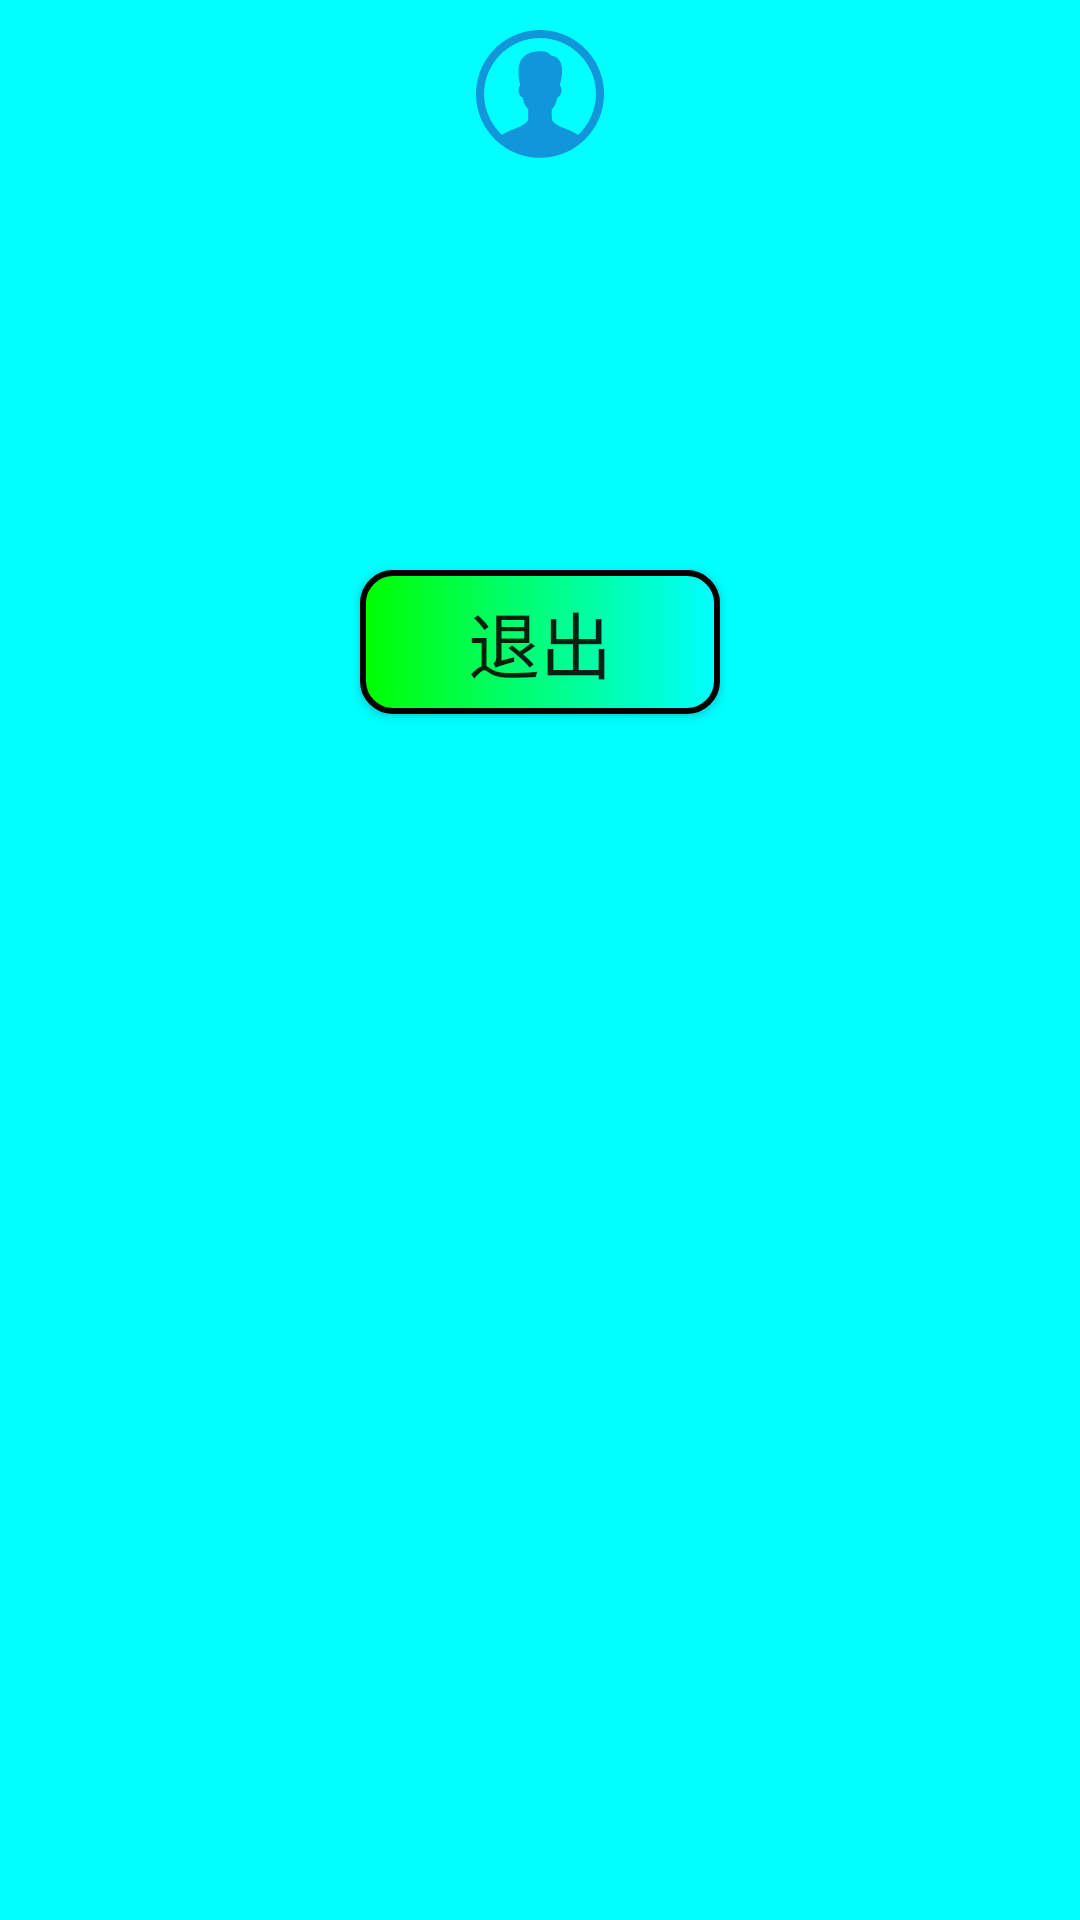

Named icons in this screenshot (1080 x 1920) and their bounding boxes, rect(x1, y1, x2, y2):
people: rect(476, 30, 604, 158)
